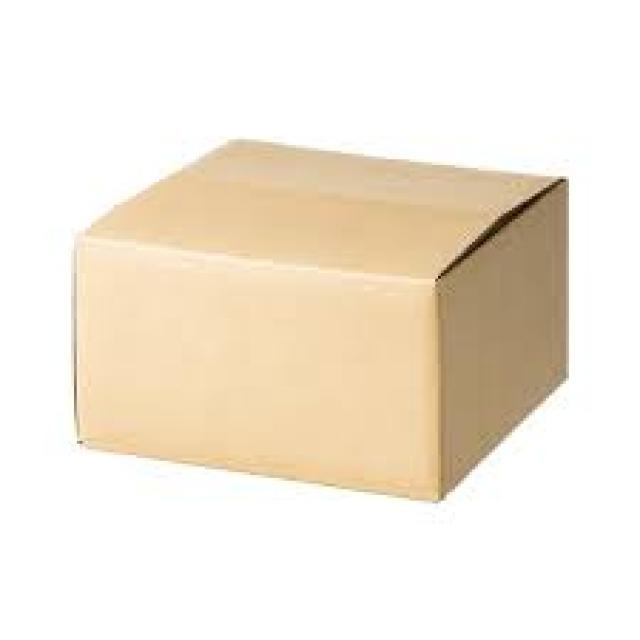cardboard: (68, 136, 566, 495)
